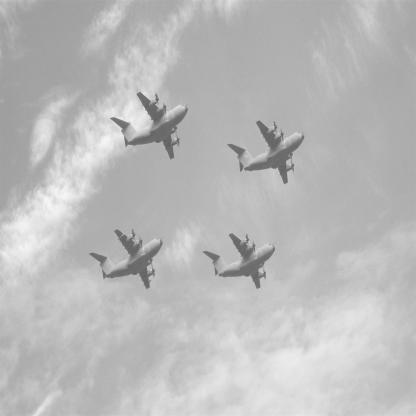A400M: (111, 92, 190, 161), (228, 121, 307, 186), (89, 229, 165, 290), (204, 234, 278, 291)
